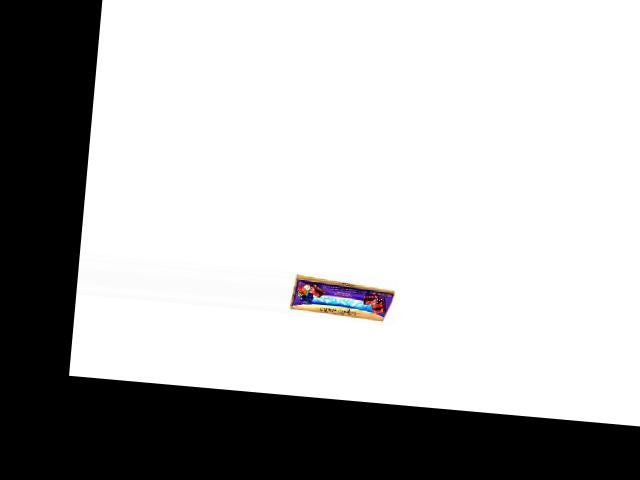chocolate: (289, 274, 400, 318)
